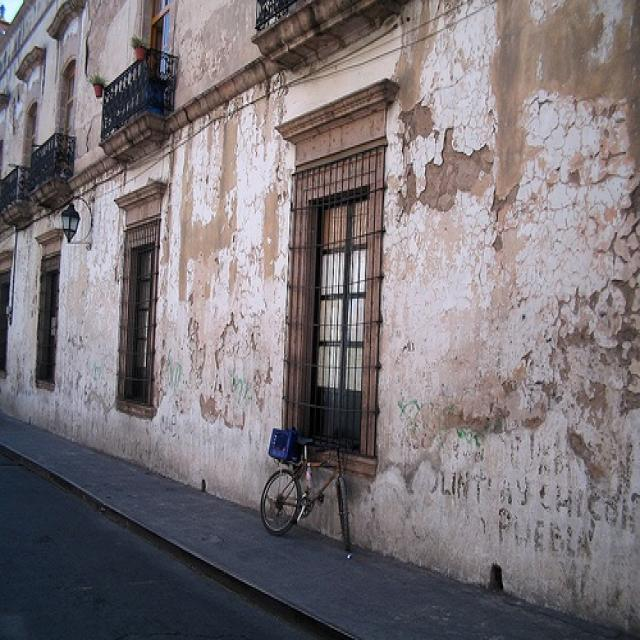bicycle: (261, 424, 350, 554)
